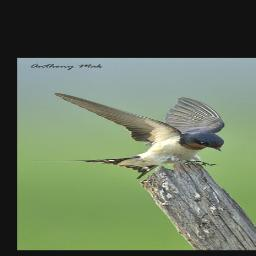Swallow: (34, 90, 226, 178)
